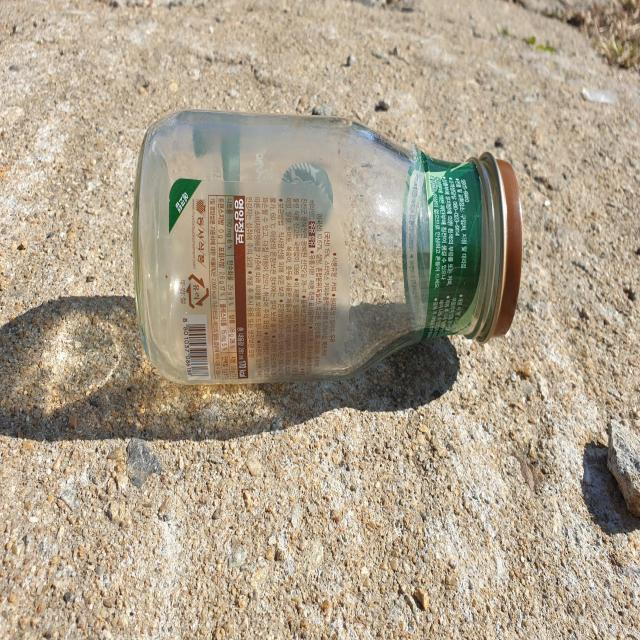glass: (133, 109, 523, 384)
